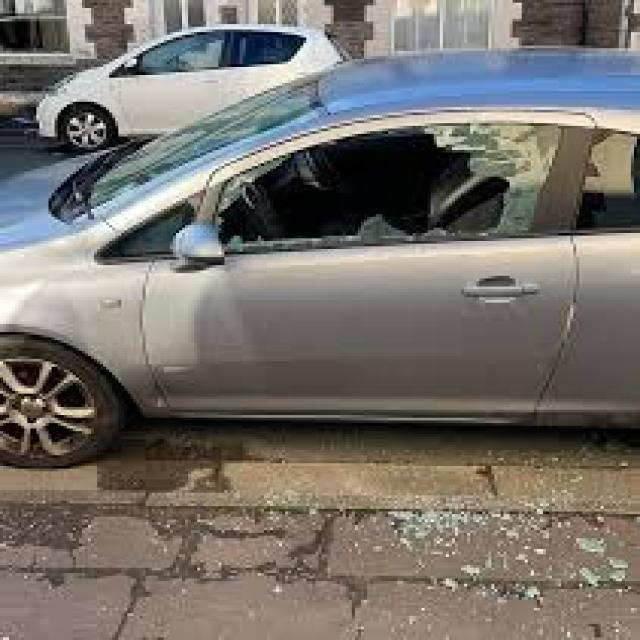damaged-window: (209, 110, 570, 250)
